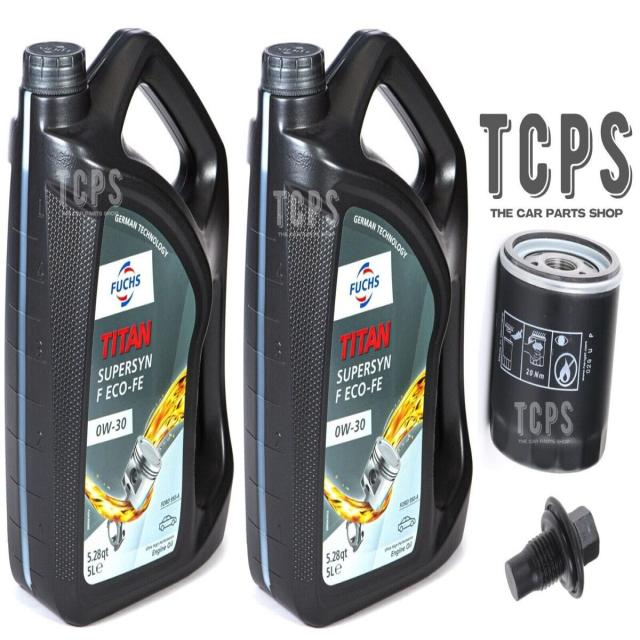motor_oil: (244, 20, 474, 631), (6, 22, 236, 630)
oil_filter: (486, 226, 623, 478)
